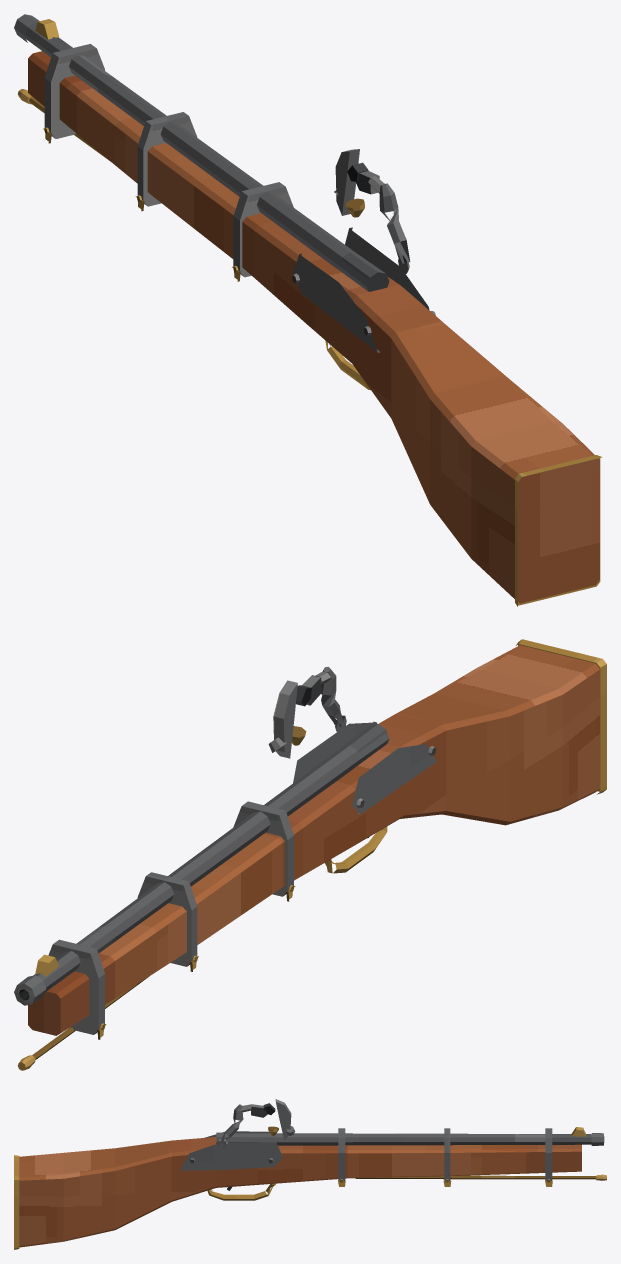
File: musket.glb
The picture shows the model from 3 angles, top to bottom: view 1: azimuth 30°, elevation 25°; view 2: azimuth 150°, elevation 25°; view 3: azimuth 270°, elevation 25°; orthographic projection. The views are drawn at different scales.
Visible parts, largest first — view 1: Musket_game_mesh; view 2: Musket_game_mesh; view 3: Musket_game_mesh.
Part boxes in pixels (<box>): Musket_game_mesh: <box>14,14,602,606</box>; Musket_game_mesh: <box>14,639,606,1070</box>; Musket_game_mesh: <box>14,1099,606,1249</box>.
Size of the model in its own units: 0.155 by 0.4325 by 1.58.
1 material, 1 textured.
